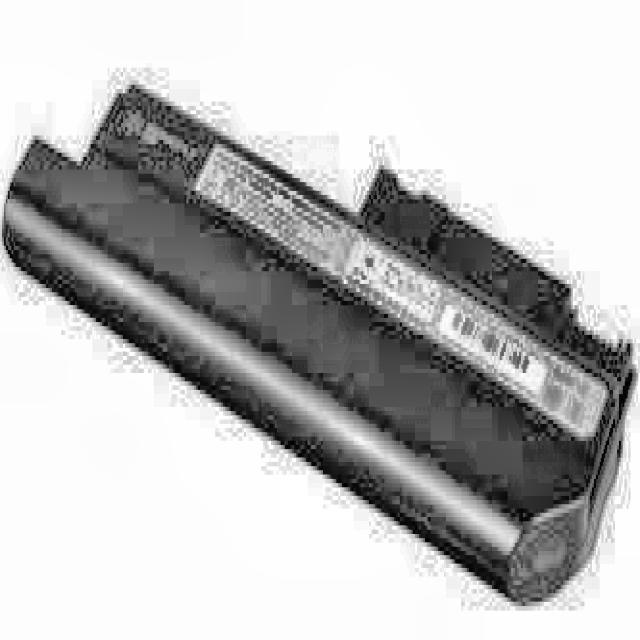Battery: (4, 85, 630, 593)
